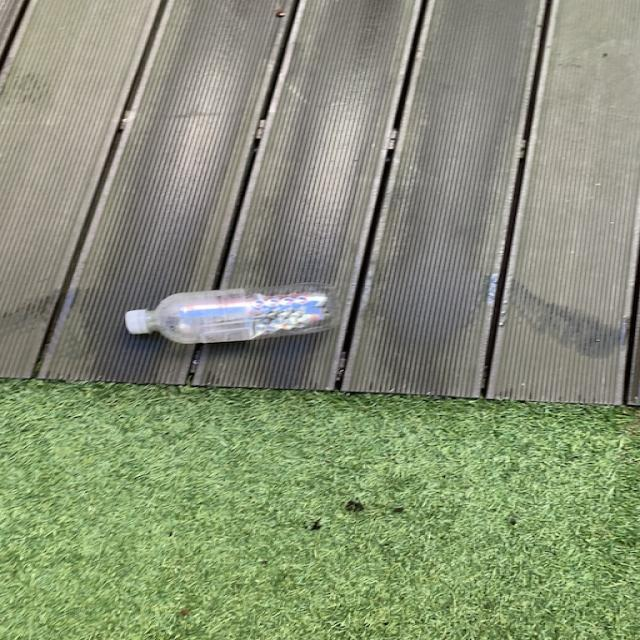Waste: (126, 283, 336, 343)
